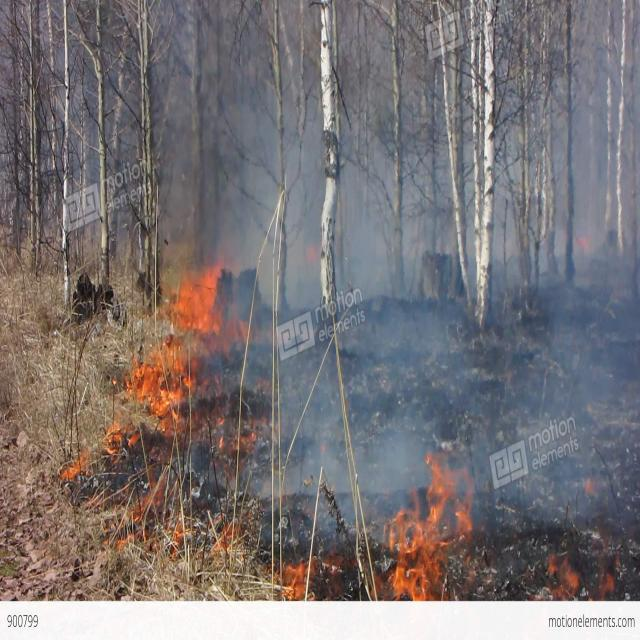Fire: (400, 475, 477, 619), (171, 253, 239, 340), (125, 339, 193, 421), (270, 542, 331, 594), (95, 414, 148, 466), (545, 548, 583, 609), (58, 449, 91, 491), (597, 569, 626, 605)
Smoke: (230, 116, 640, 510)
